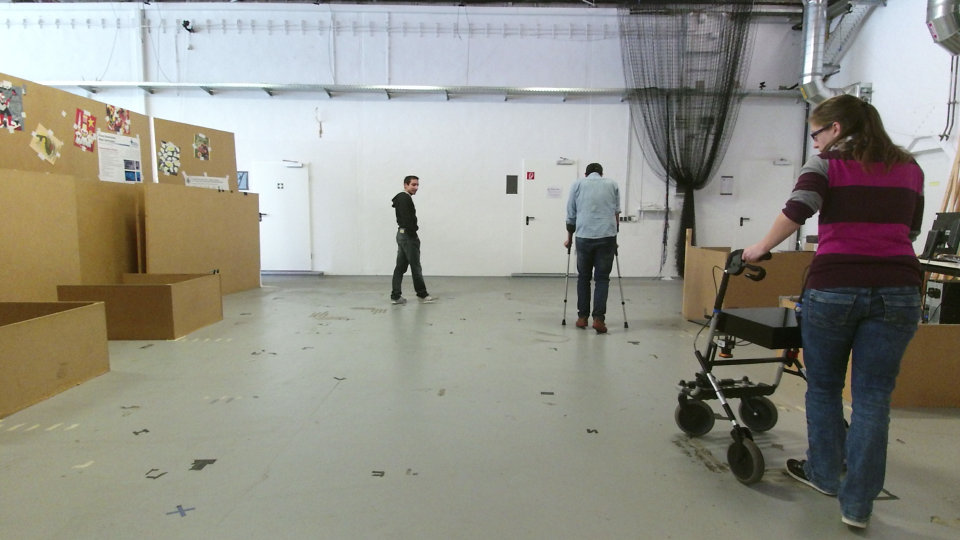crutches: (555, 158, 629, 337)
